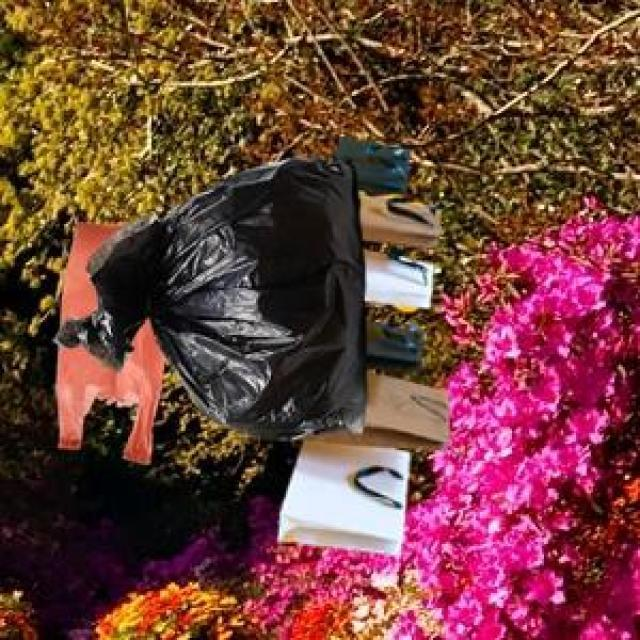miscellaneous trash: (49, 154, 361, 435)
paper: (275, 132, 444, 550)
